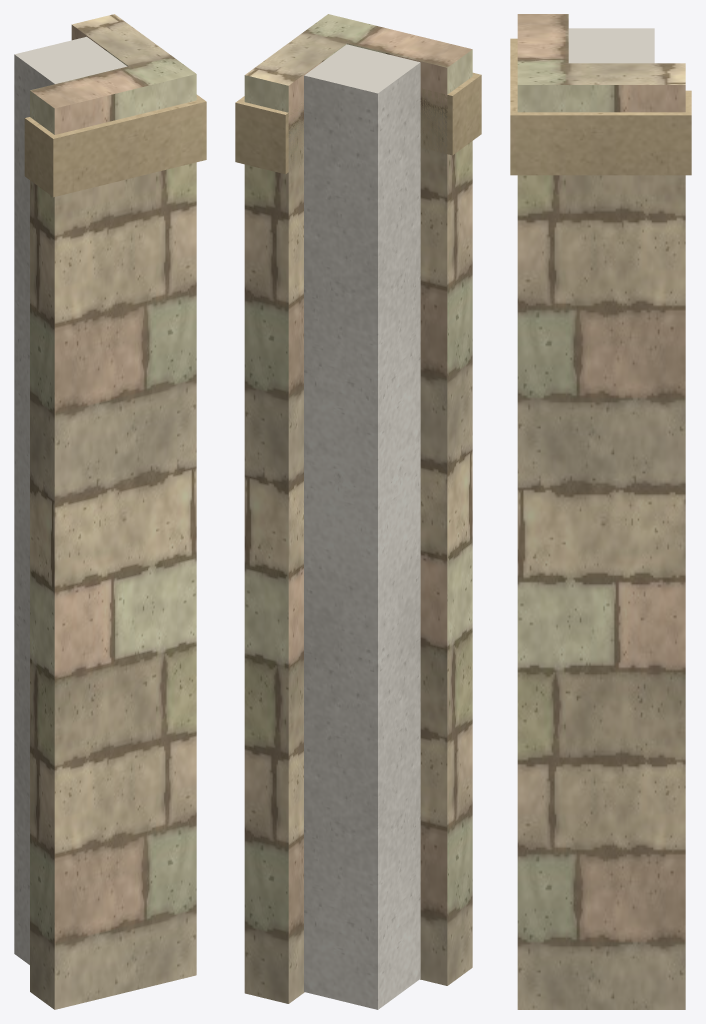
The model's file is f_corner_u2.glb.
3 views of the same model, side by side, from view 1: azimuth 30°, elevation 25°; view 2: azimuth 150°, elevation 25°; view 3: azimuth 270°, elevation 25° (orthographic). The views are drawn at different scales.
Visible parts, largest first — view 1: f_corner_u2_terra, f_corner_u2_plaster, f_corner_u2_terra2; view 2: f_corner_u2_plaster, f_corner_u2_terra, f_corner_u2_terra2; view 3: f_corner_u2_terra, f_corner_u2_terra2, f_corner_u2_plaster.
Boxes of the visible parts, x1,y1,x2,y2 form: f_corner_u2_terra: [30, 14, 196, 1009]; f_corner_u2_plaster: [14, 36, 127, 964]; f_corner_u2_terra2: [24, 94, 206, 197]; f_corner_u2_plaster: [304, 44, 420, 1009]; f_corner_u2_terra: [244, 14, 472, 1003]; f_corner_u2_terra2: [235, 72, 481, 174]; f_corner_u2_terra: [517, 14, 685, 1009]; f_corner_u2_terra2: [510, 38, 691, 175]; f_corner_u2_plaster: [568, 28, 654, 63].
Bounding box in the file's own units: 0.605 × 3.4 × 0.605.
Materials: 3 (3 with a texture image).
